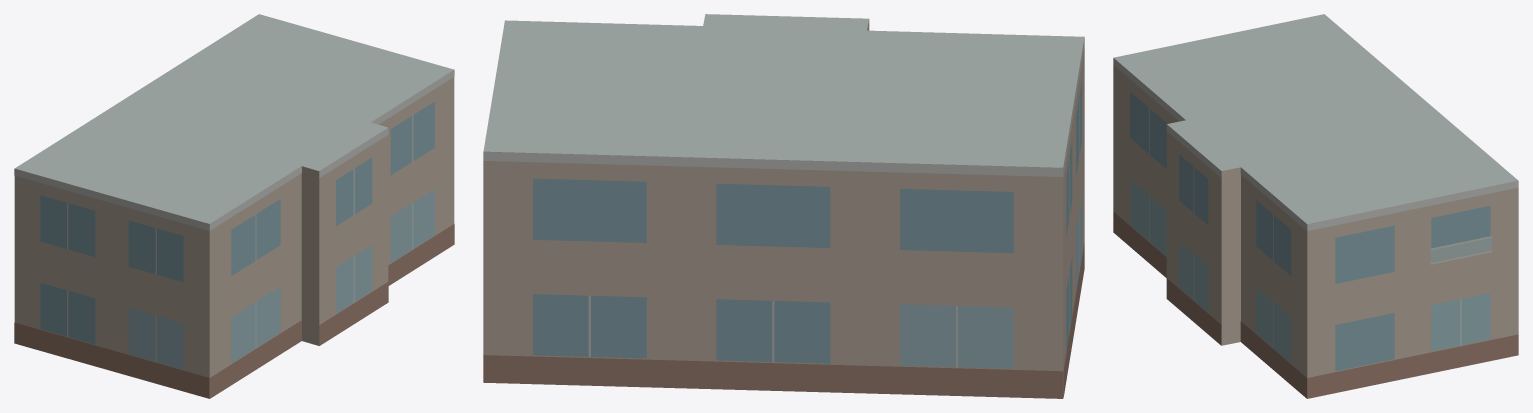
File: survey-upis-32831604.glb
3 views of the same model, side by side, from view 1: azimuth 30°, elevation 25°; view 2: azimuth 150°, elevation 25°; view 3: azimuth 270°, elevation 25° (orthographic). The views are drawn at different scales.
Parts seen in each view (by area): view 1: survey-upis-32831604.tmp; view 2: survey-upis-32831604.tmp; view 3: survey-upis-32831604.tmp.
Part boxes in pixels (x1,y1,x2,y2): survey-upis-32831604.tmp: [14, 14, 454, 398]; survey-upis-32831604.tmp: [483, 14, 1084, 398]; survey-upis-32831604.tmp: [1113, 14, 1518, 398].
Bounding box in the file's own units: 15.75 × 6.1 × 12.83.
